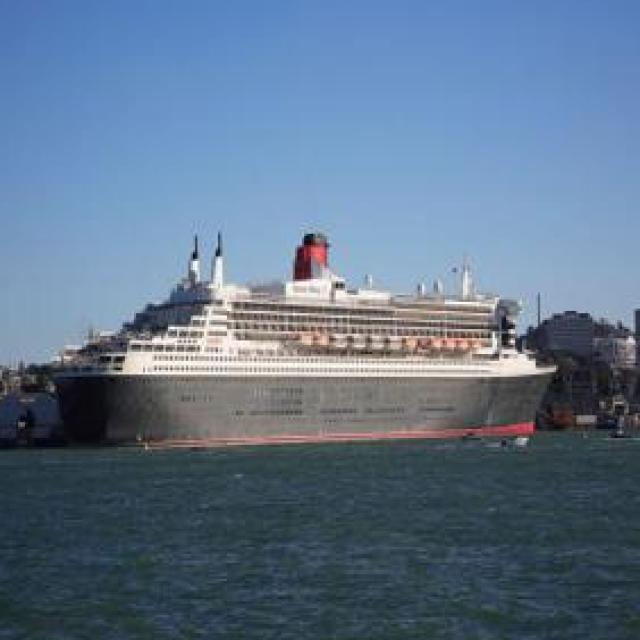passenger ship: (68, 242, 548, 450)
